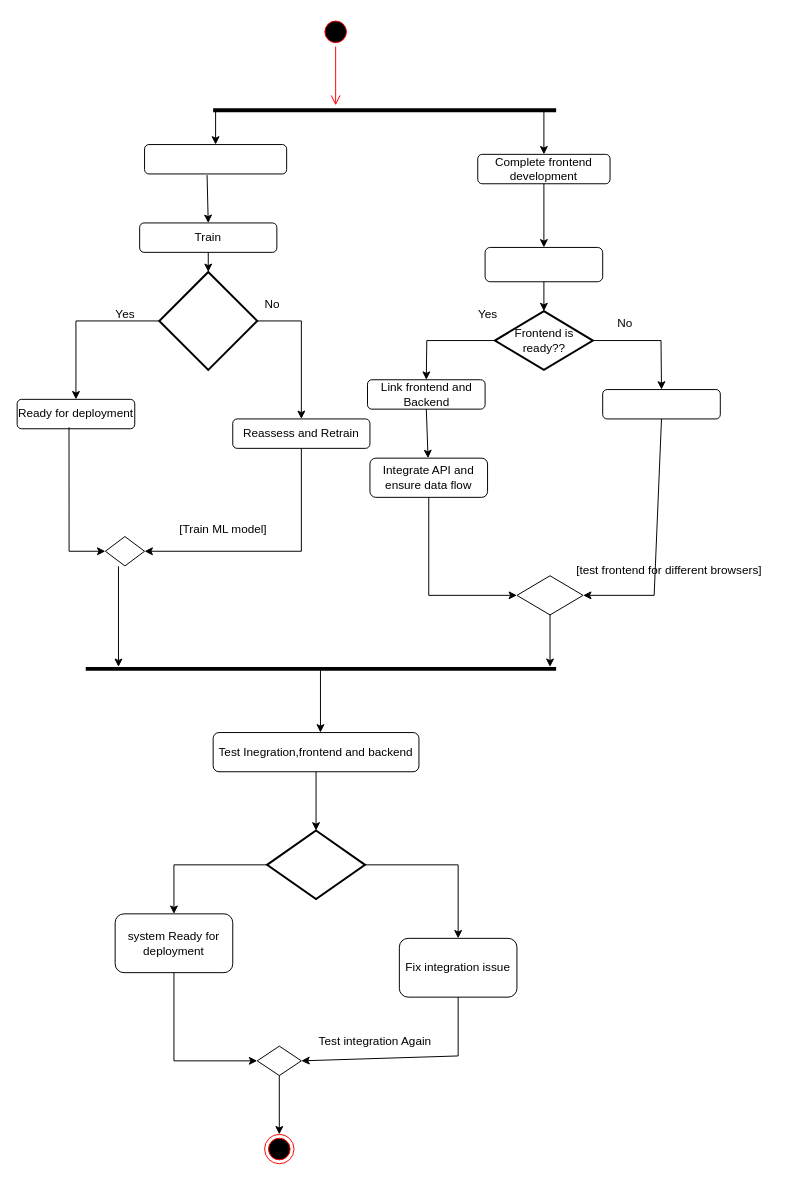
Image size: 789x1181. Some labels were removed from this diagram. The centre of each missing label's shape, as x and y in pixels:
Fix froentend issues: (661,404)
integration successful: (316,864)
Is ready for deployment: (208,320)
Test frontend: (543,264)
Train Machine Learning Model: (215,159)
